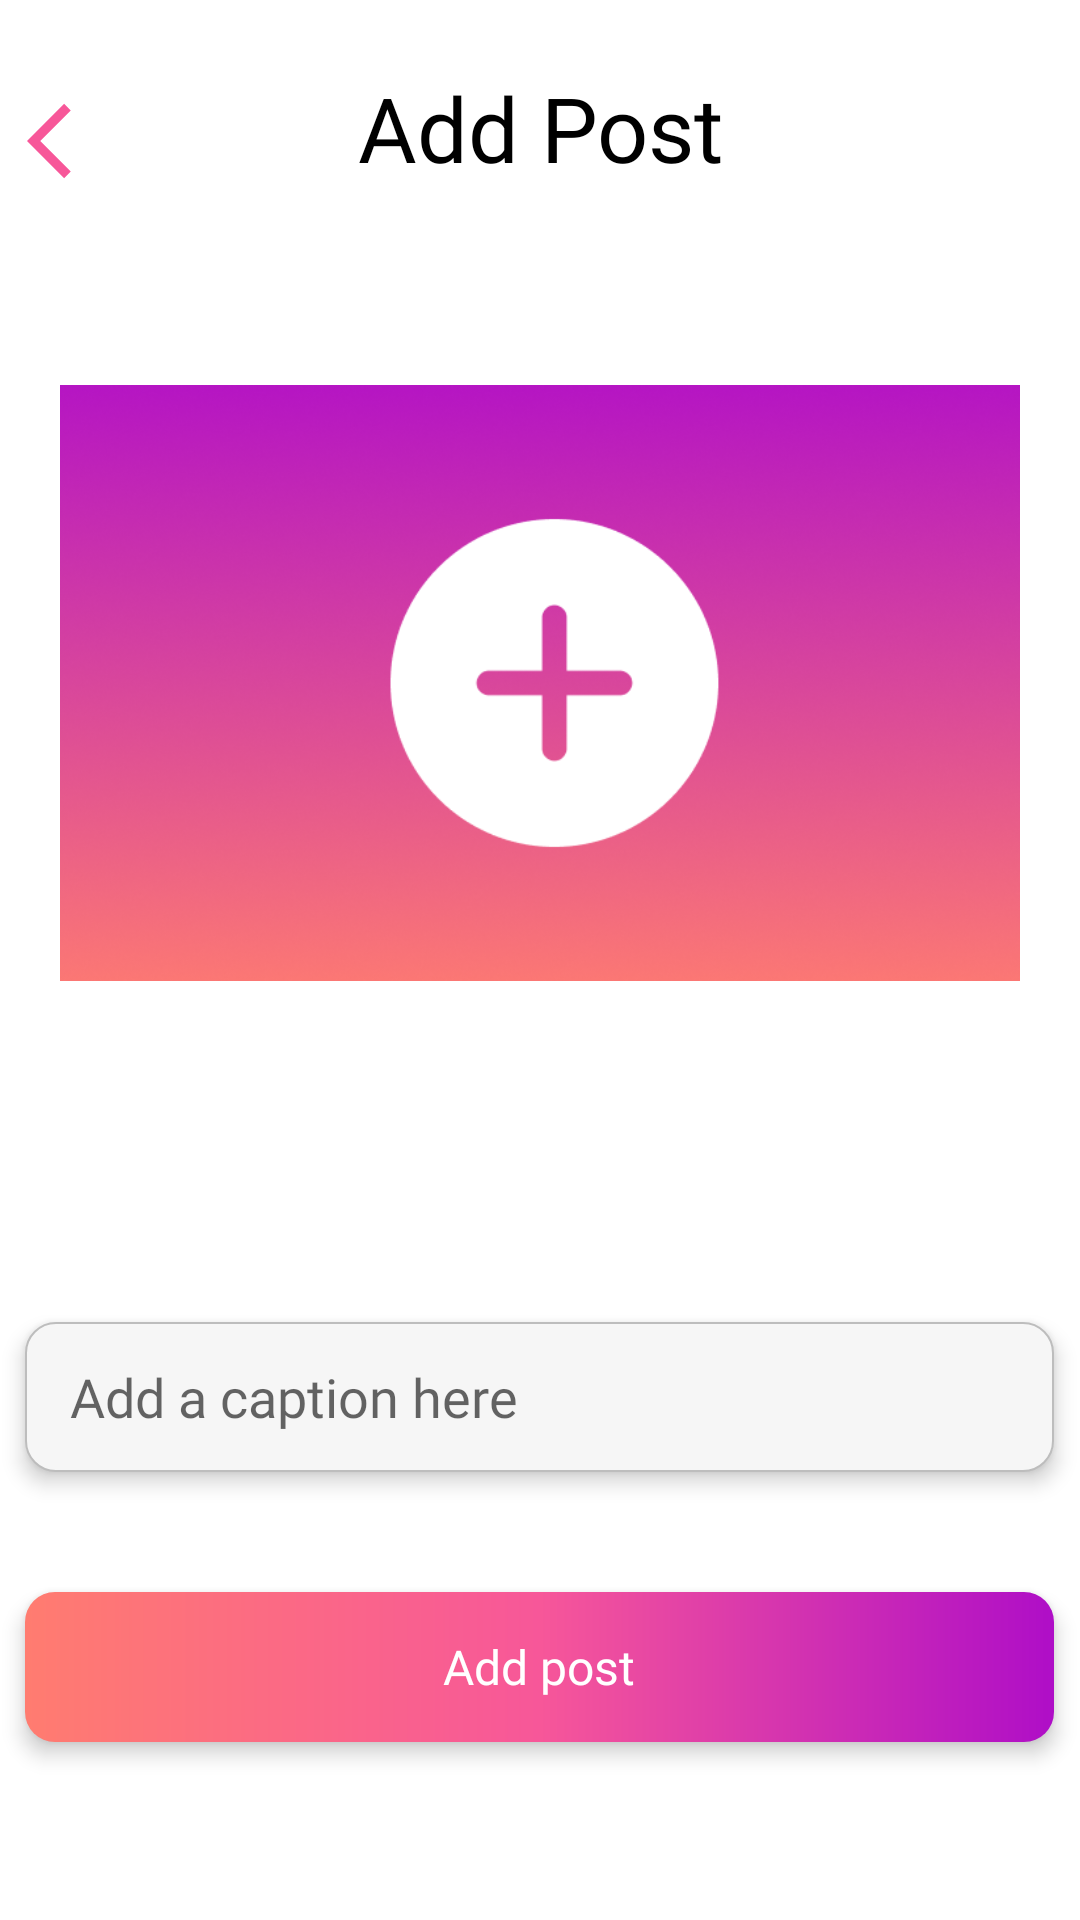

Where icons sit on this 1080 x 1920 app screen, as rect(x1, y1, x2, y2):
arrow back: rect(27, 104, 71, 178)
